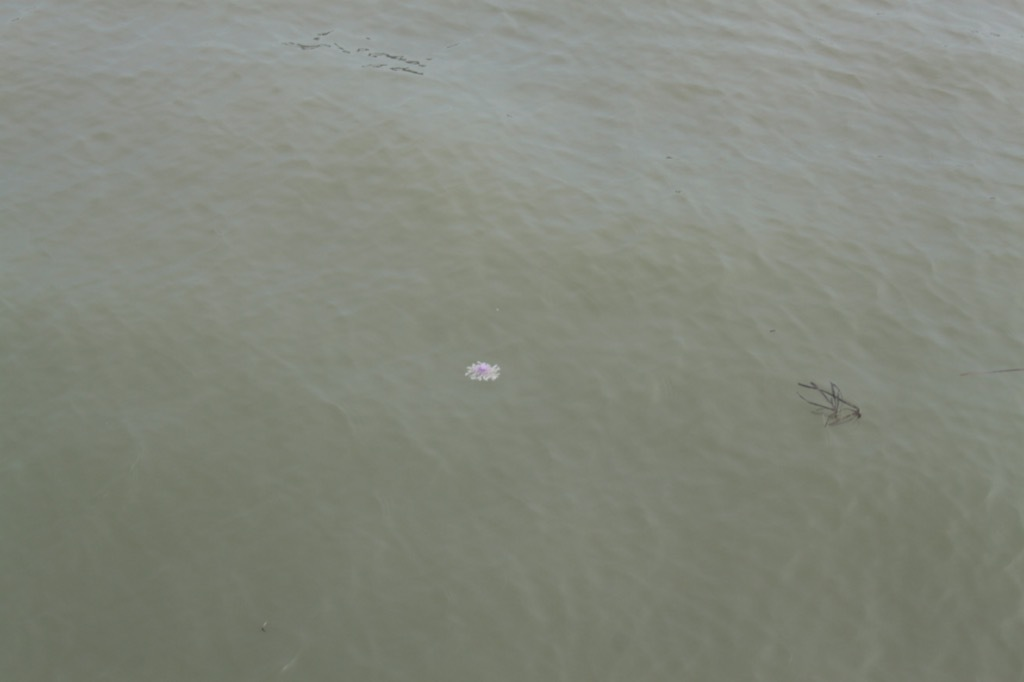organic: (789, 367, 872, 436), (248, 607, 314, 682), (453, 348, 517, 394), (948, 355, 1024, 383), (763, 320, 786, 338)
